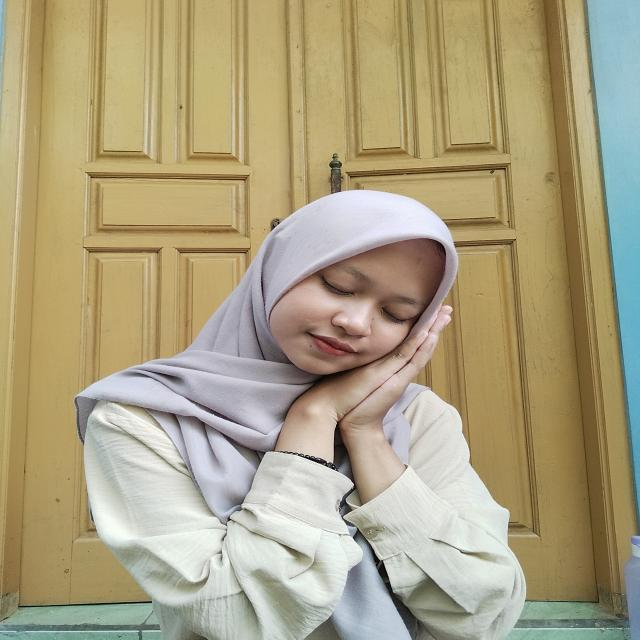tidur: (277, 307, 454, 461)
